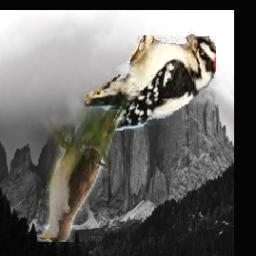Cuckoo: (37, 81, 136, 242)
Woodpecker: (81, 28, 217, 131)
